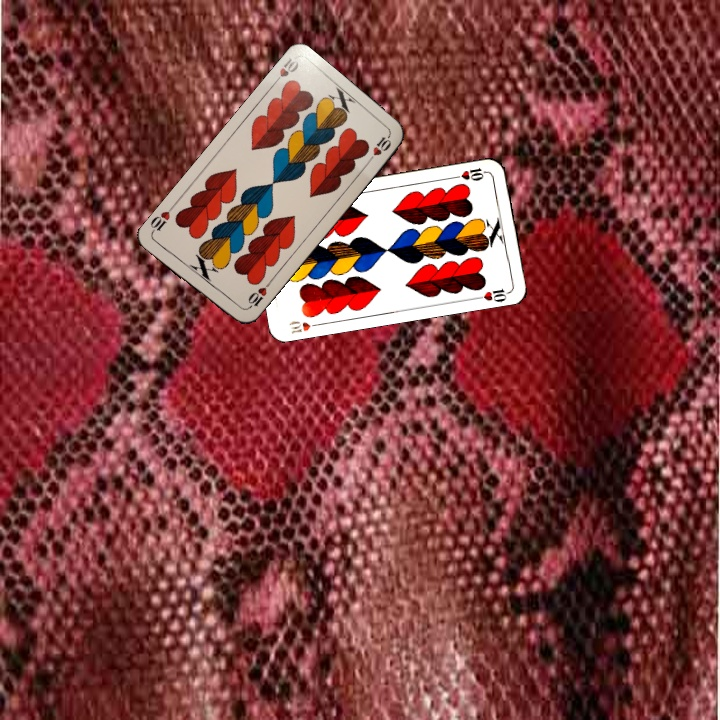H10: (268, 54, 301, 88), (242, 278, 273, 312), (450, 164, 490, 183), (285, 317, 324, 336)
